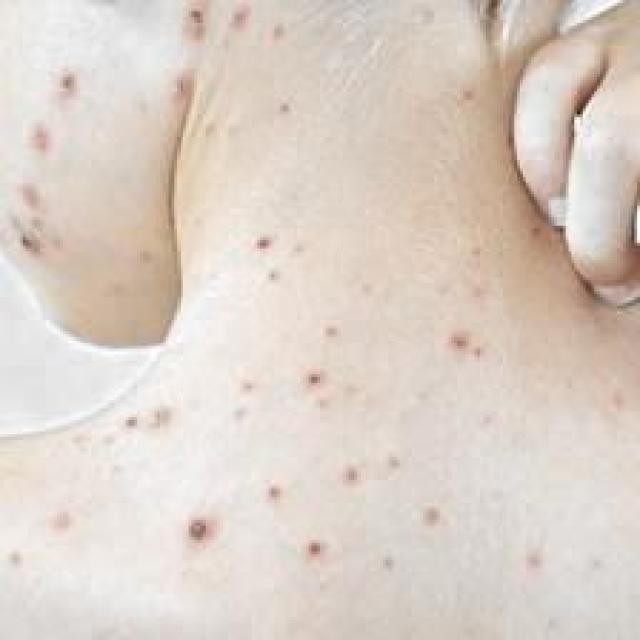others: (19, 22, 636, 640)
